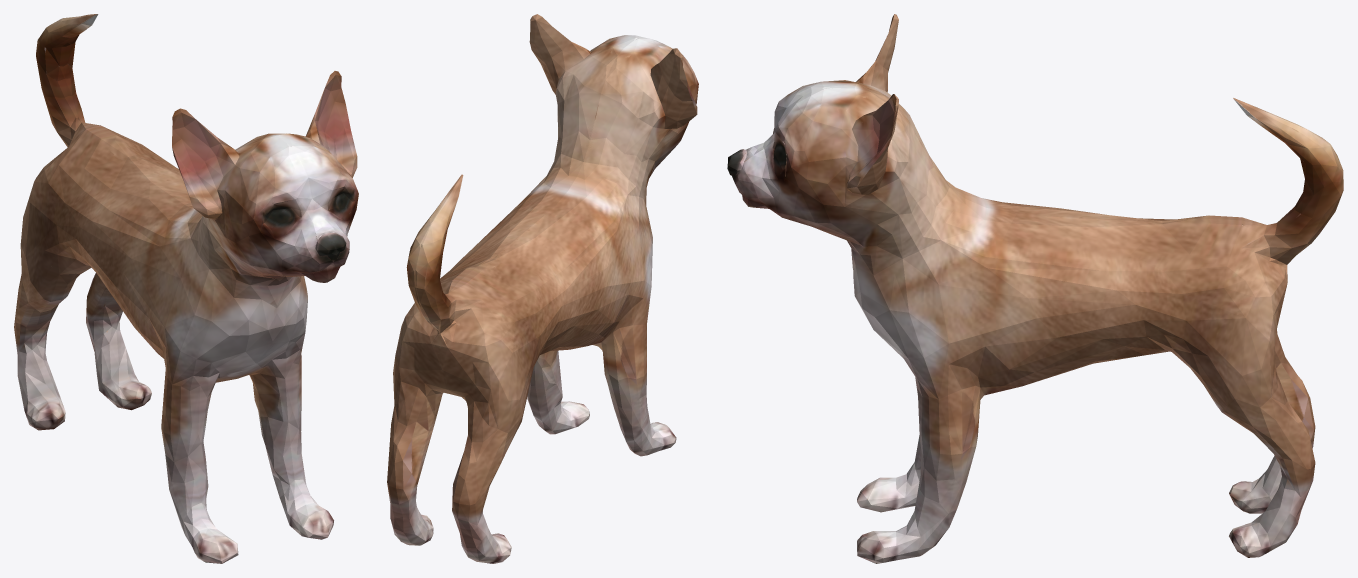
File: Chihuahua.fbx
The picture shows the model from 3 angles, left to right: view 1: azimuth 30°, elevation 25°; view 2: azimuth 150°, elevation 25°; view 3: azimuth 270°, elevation 25°; orthographic projection. The views are drawn at different scales.
Parts seen in each view (by area): view 1: Chihuahua FBX; view 2: Chihuahua FBX; view 3: Chihuahua FBX.
Boxes of the visible parts, <box> form: Chihuahua FBX: <box>14,14,358,563</box>; Chihuahua FBX: <box>387,14,698,563</box>; Chihuahua FBX: <box>727,14,1343,563</box>.
Bounding box in the file's own units: 208 × 518 × 602.
Materials: 1 (1 with a texture image).
